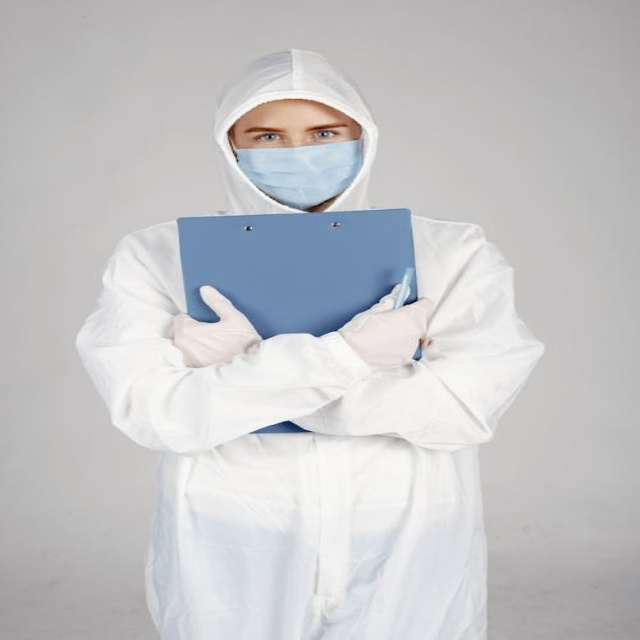Guantes: (338, 283, 433, 368), (172, 285, 262, 368)
Mascara: (232, 137, 363, 208)
Sin_gafas: (234, 119, 352, 147)
